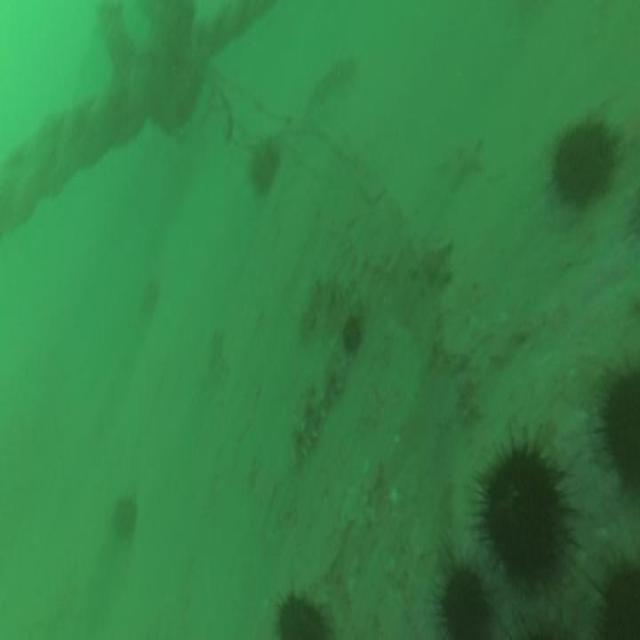echinus: (462, 425, 582, 607), (579, 349, 640, 512), (543, 106, 622, 213), (426, 542, 506, 640), (574, 534, 640, 640), (268, 577, 338, 640), (111, 488, 137, 548)
holothurian: (290, 310, 348, 474)
starfish: (441, 128, 485, 193)
